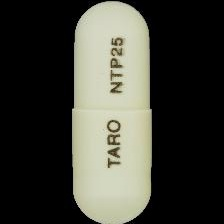58118-4002: (0, 0, 224, 224)
